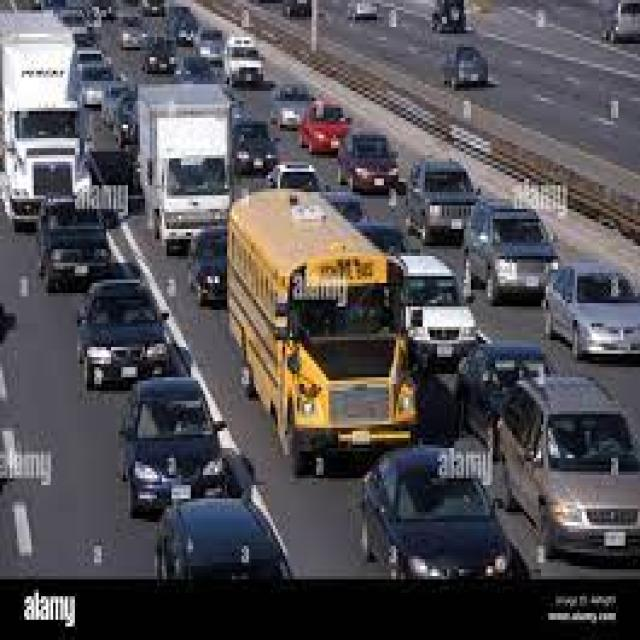bus: (229, 189, 415, 472)
car: (500, 377, 638, 556), (360, 438, 507, 579), (126, 377, 225, 515), (155, 499, 285, 583), (77, 280, 167, 387), (464, 199, 555, 303), (456, 340, 541, 448), (546, 259, 638, 357), (401, 256, 473, 367), (41, 209, 109, 290), (411, 162, 473, 243), (338, 131, 396, 192), (188, 229, 225, 303), (299, 101, 345, 152), (234, 121, 273, 172), (77, 51, 111, 108), (270, 84, 309, 128), (444, 47, 485, 84), (145, 37, 174, 74), (123, 17, 145, 51), (350, 0, 374, 20)
truck: (0, 13, 77, 229), (138, 84, 227, 253), (225, 37, 261, 84)
